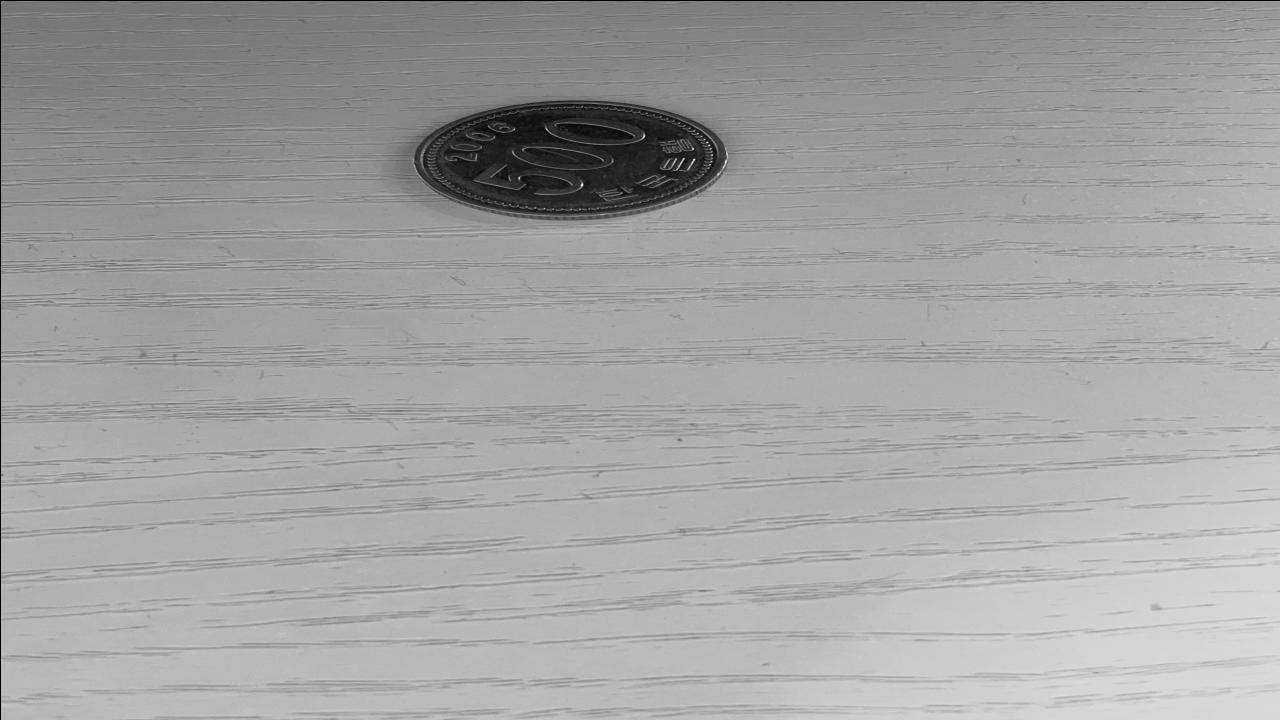coin: (412, 101, 728, 219)
